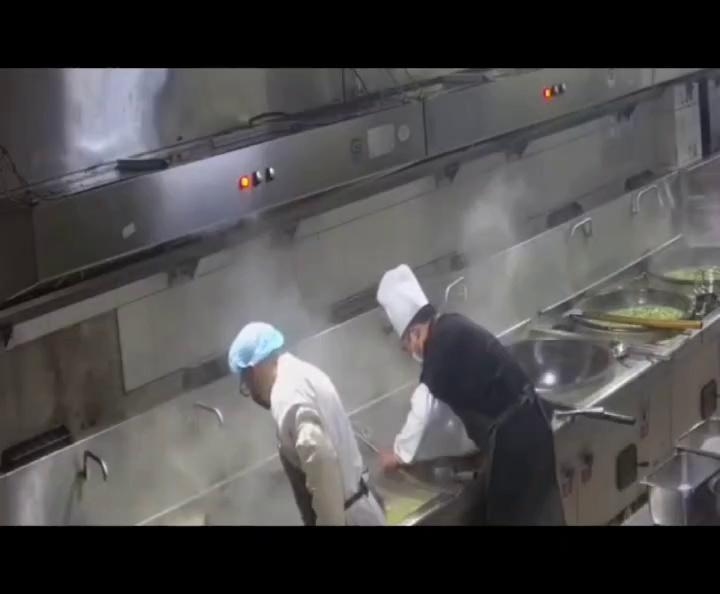gloves: (222, 320, 286, 375)
